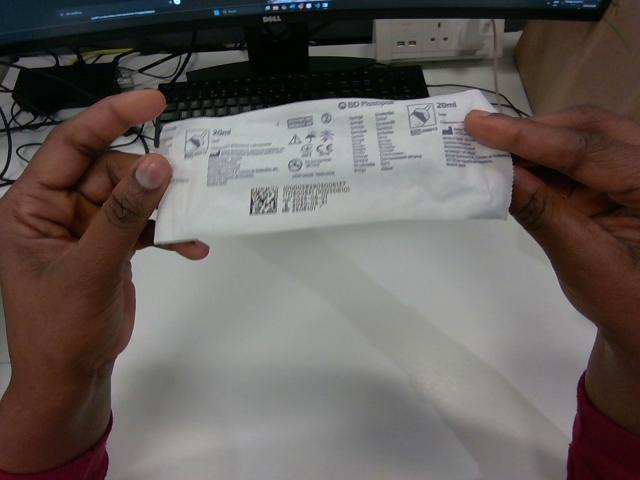syringe: (155, 90, 512, 243)
